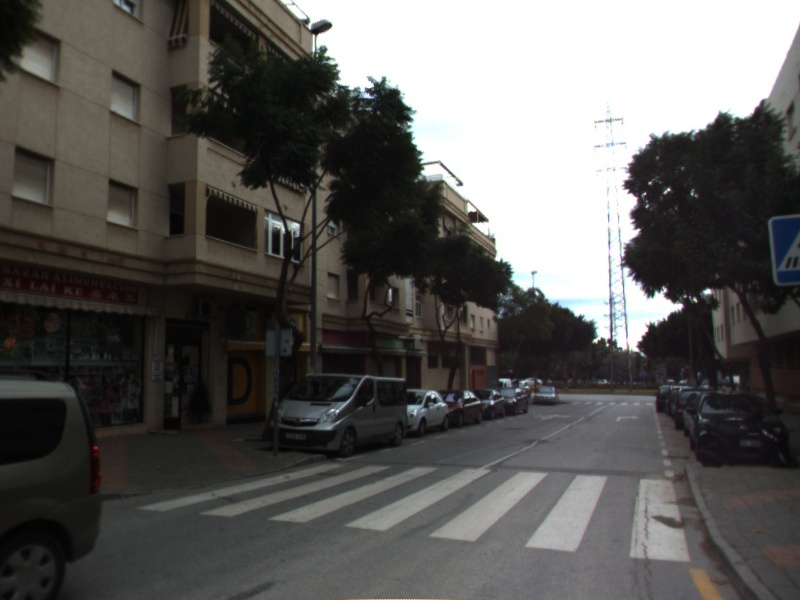RIGHT: (614, 413, 641, 423)
